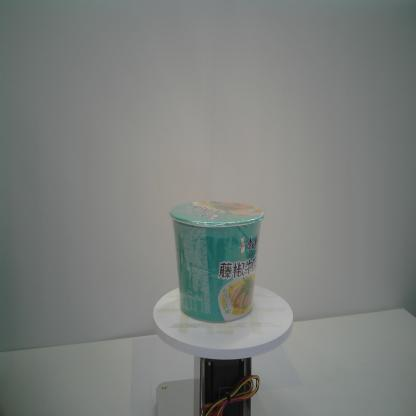Instant Noodles: (168, 198, 265, 325)
